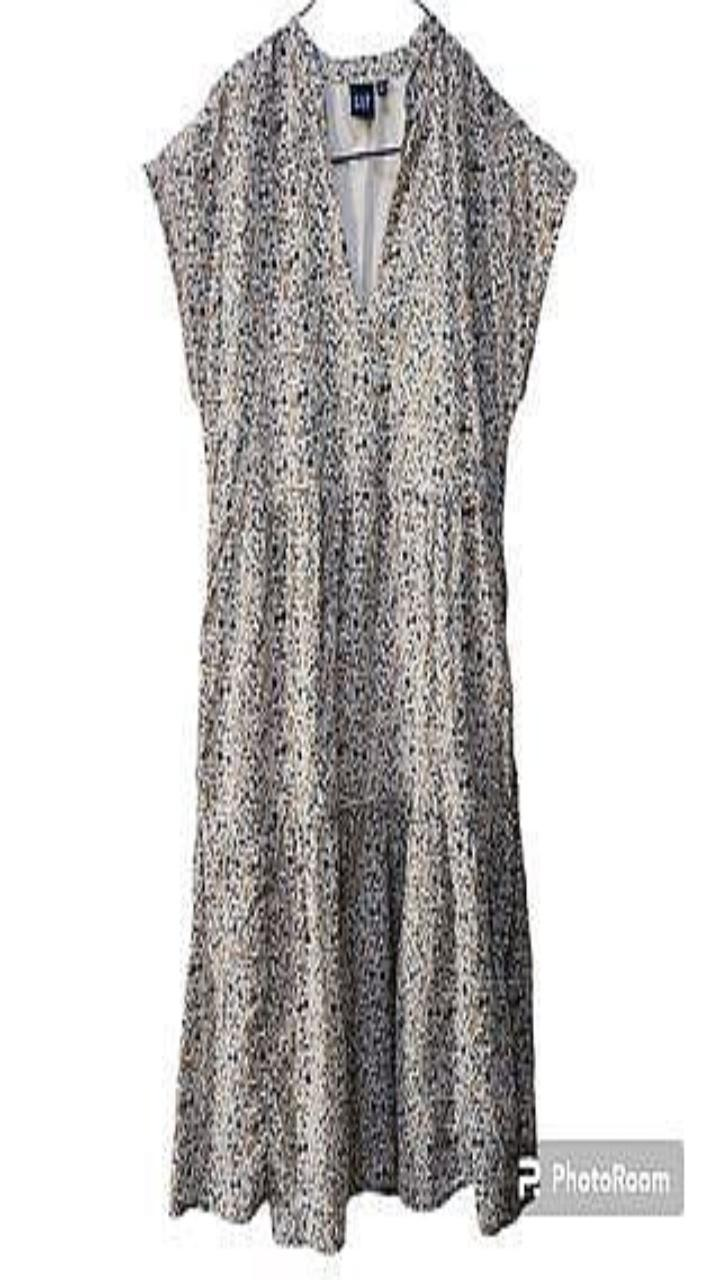Dresses: (144, 13, 575, 1251)
